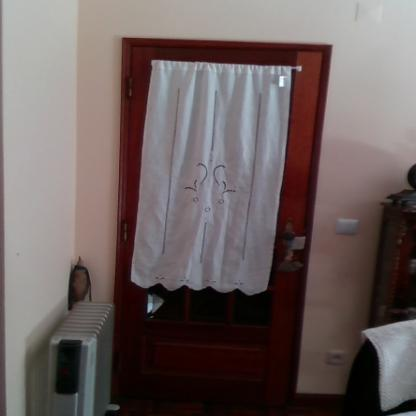door: (131, 46, 303, 400)
hinged: (121, 222, 130, 244), (127, 74, 134, 99)
knob: (280, 230, 298, 243)
